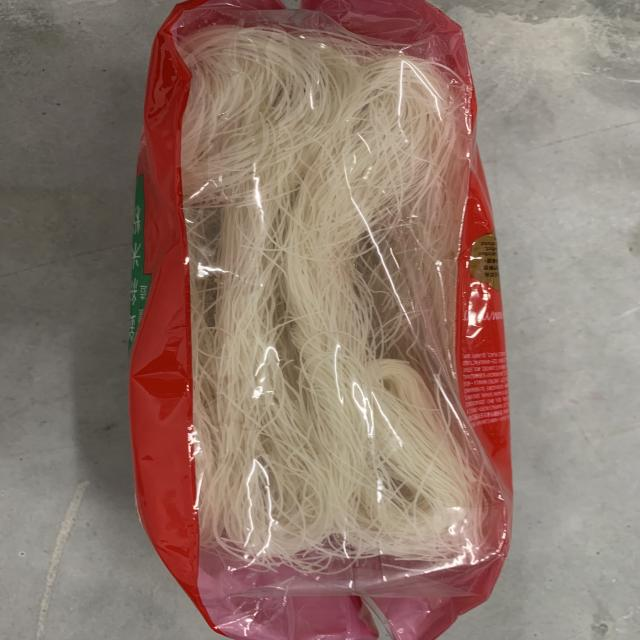object_name: (157, 11, 495, 605)
